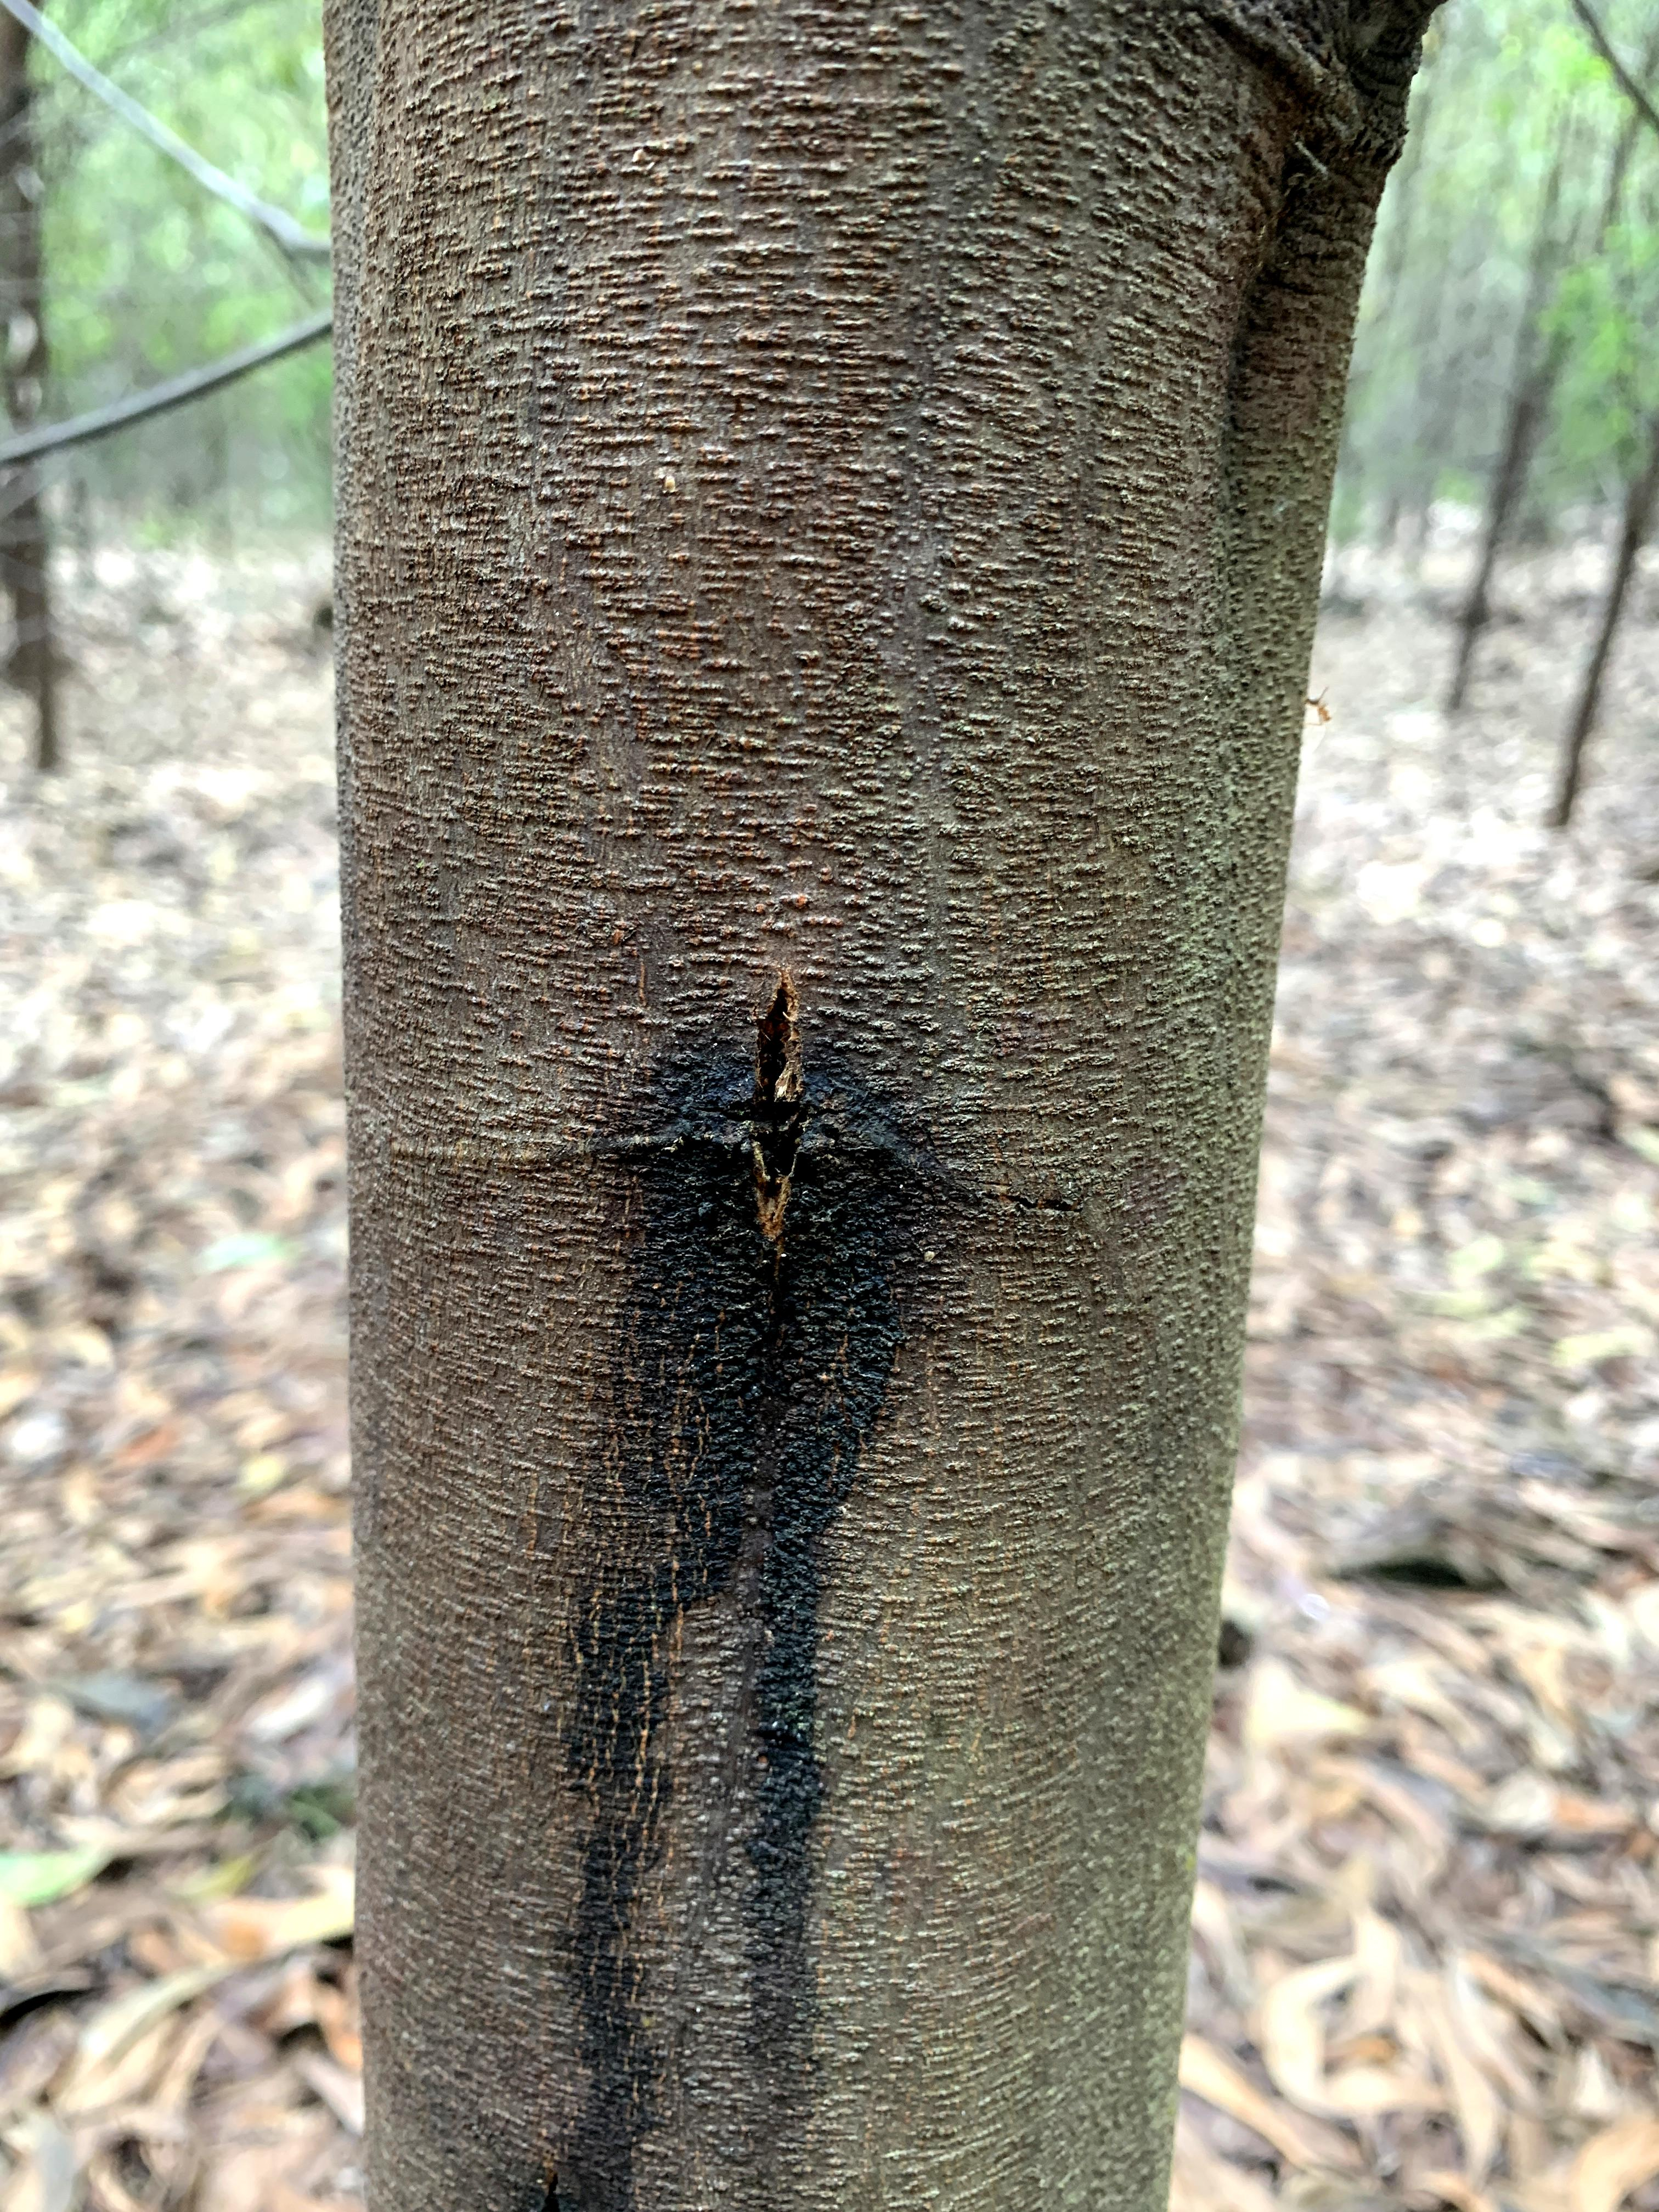Stem Borer: (587, 951, 1000, 1508)
